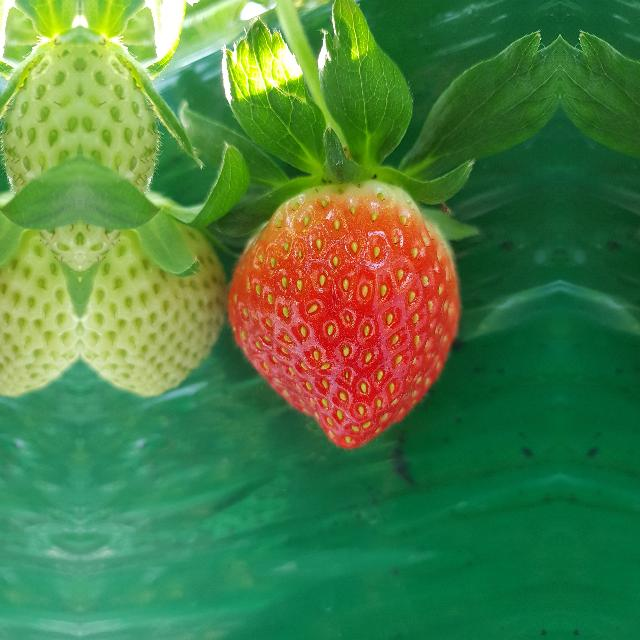Health_100: (226, 178, 462, 450)
Health_25: (80, 214, 224, 408), (80, 38, 174, 220), (0, 214, 80, 408), (0, 37, 80, 220)
